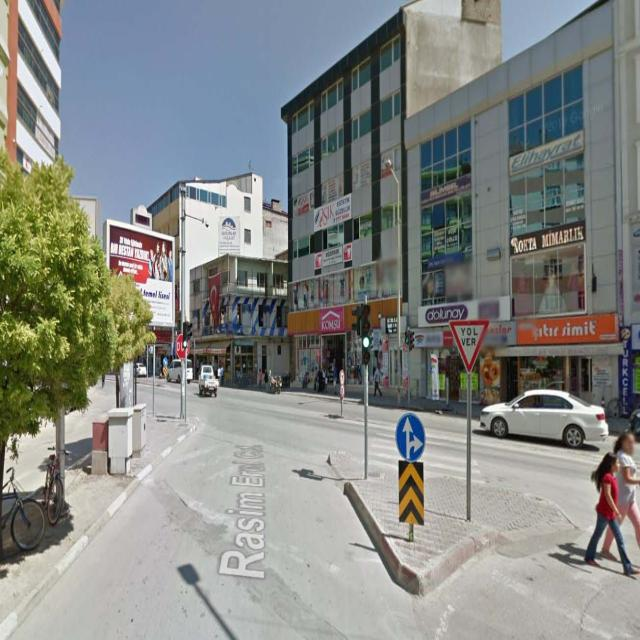dur: (176, 334, 189, 358)
ilerisag: (396, 413, 426, 464)
yesil: (362, 304, 371, 350), (182, 322, 188, 347)
